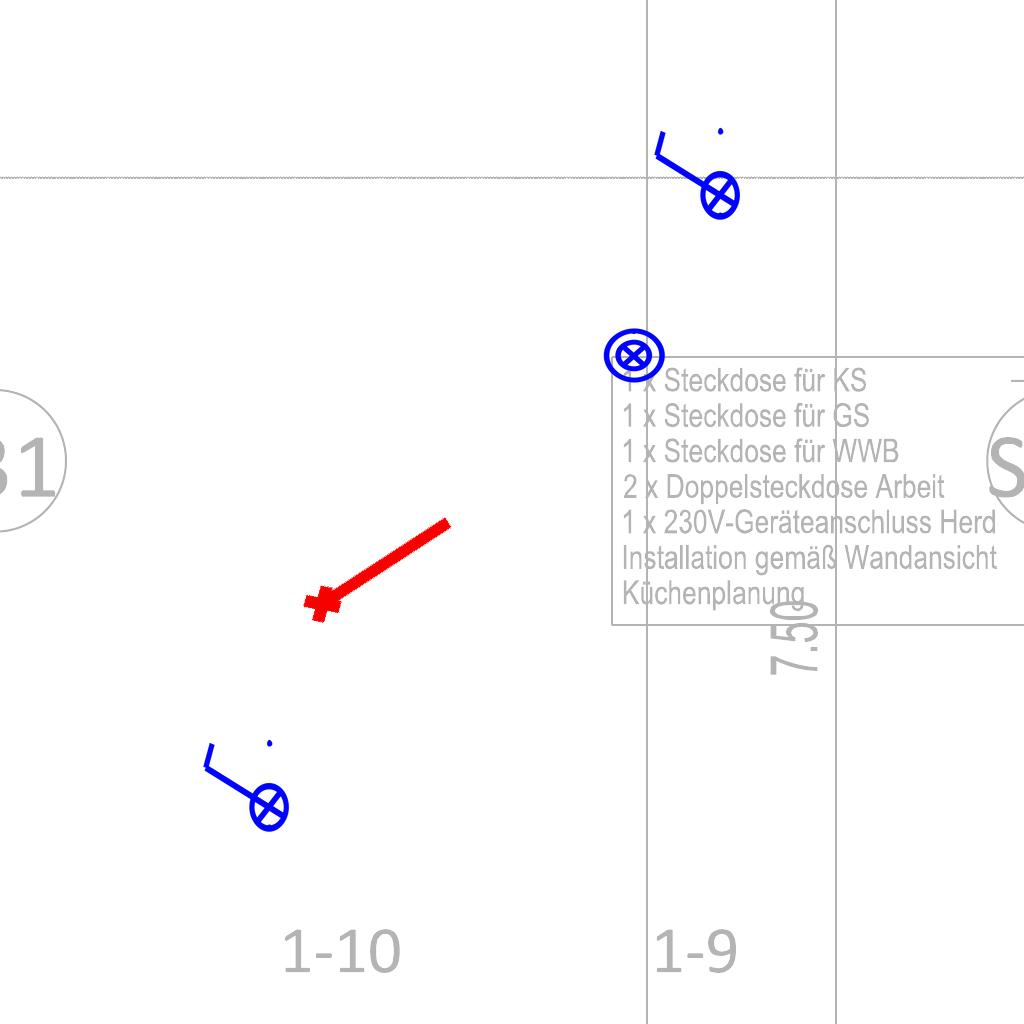ASR_Ansaugoeffnung: (291, 497, 465, 633)
Ausschalter_beleuchtet: (195, 734, 291, 846), (646, 122, 742, 234)
Taster_beleuchtet: (601, 323, 667, 389)
